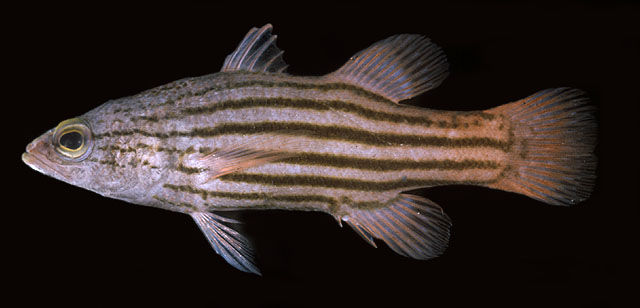fish: (20, 21, 598, 276)
